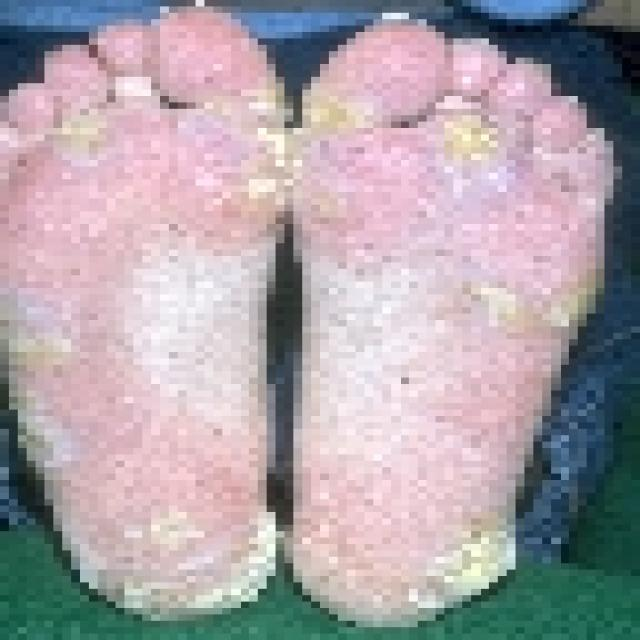lupus: (2, 10, 620, 632)
